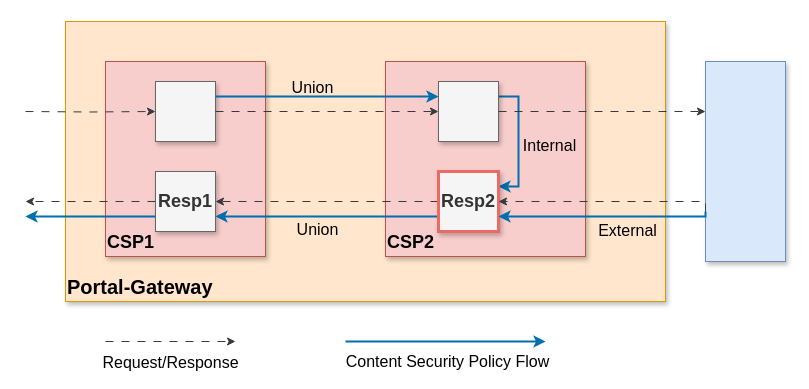
Some shapes in this 809 by 389 pixel diagram are drawn without their labels. Here are the shapes that lost their labels. From the top down, the centre of each, then its label:
At point 186,112: "Req1".
At point 469,112: "Req2".
At point 746,162: "Backend".
